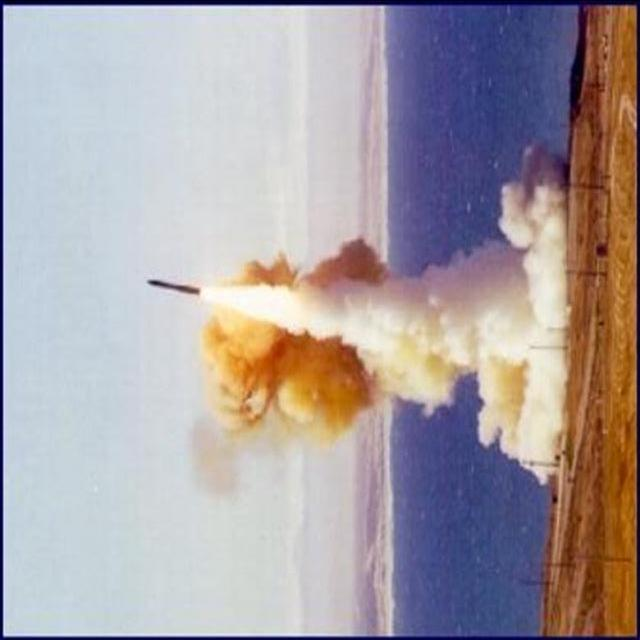Missile: (146, 269, 212, 309)
